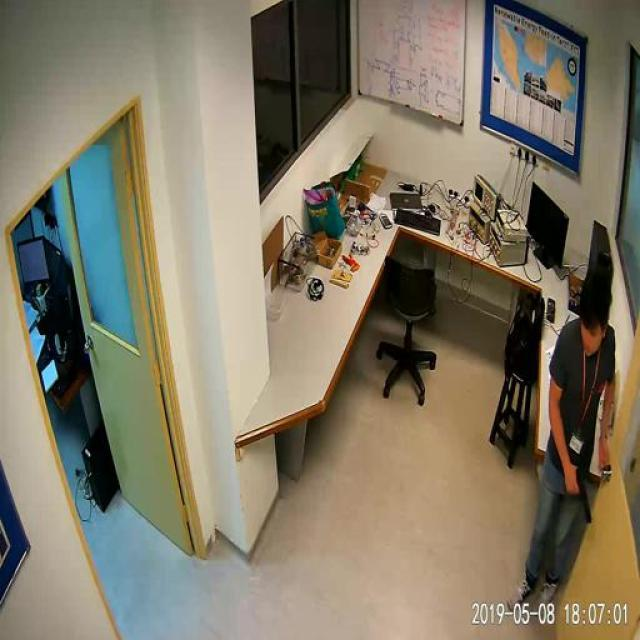Gun: (560, 473, 603, 524)
